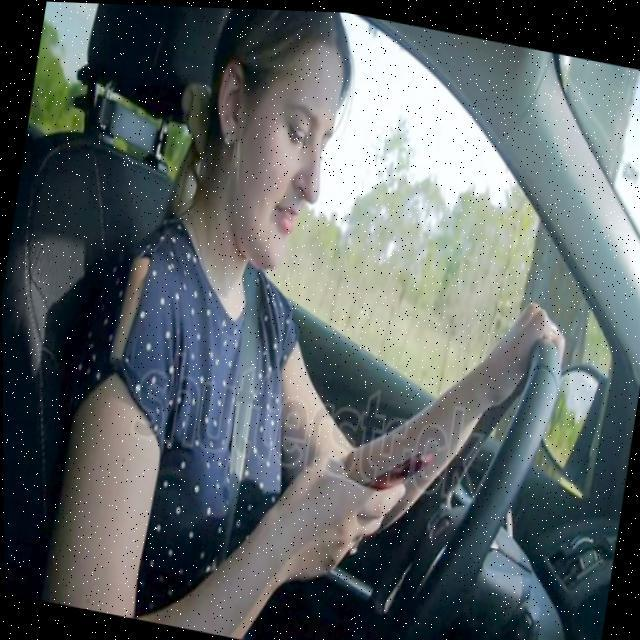PhoneCall: (347, 436, 432, 511)
